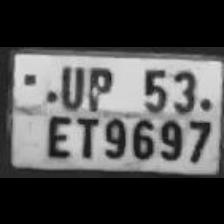3: (169, 64, 197, 110)
5: (138, 64, 168, 110)
6: (126, 114, 156, 160)
7: (183, 113, 213, 163)
9: (100, 111, 127, 158), (156, 114, 182, 160)
E: (41, 110, 72, 158)
P: (82, 62, 116, 108)
T: (70, 111, 100, 158)
U: (54, 60, 84, 108)
